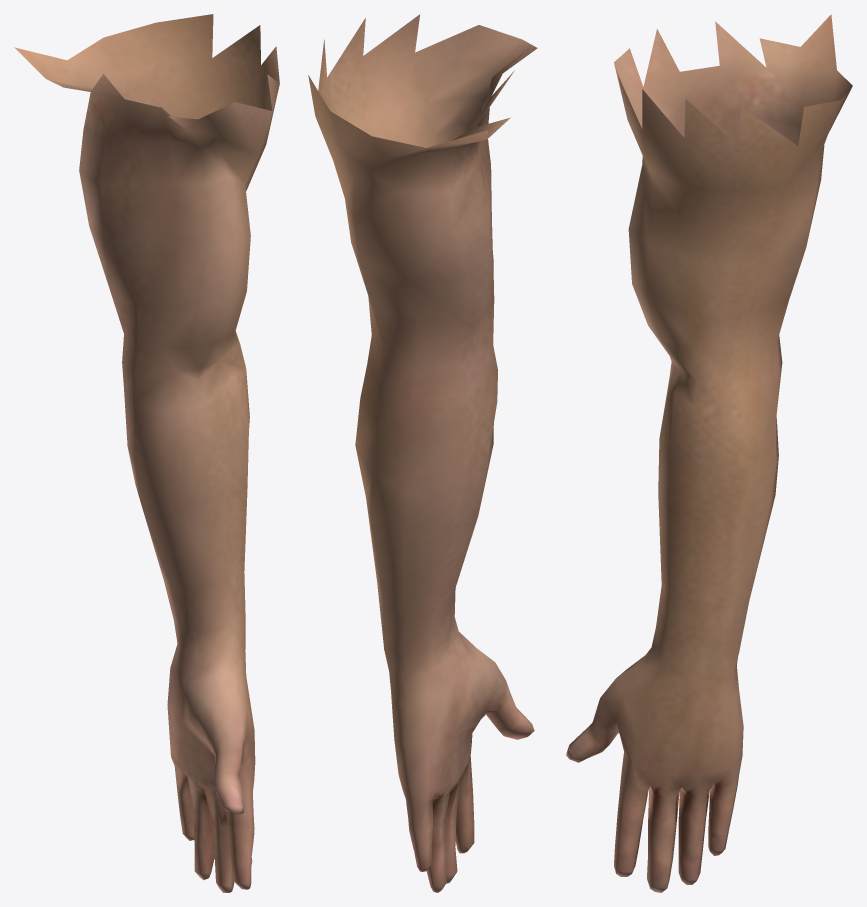
The model's file is character_arm_r_naked.glb.
3 renders of one model, left to right at view 1: azimuth 30°, elevation 25°; view 2: azimuth 150°, elevation 25°; view 3: azimuth 270°, elevation 25°, orthographic. The views are drawn at different scales.
Parts seen in each view (by area): view 1: tripo_node_bc81f8f9-a104-44a7-afac-f094b41faff7; view 2: tripo_node_bc81f8f9-a104-44a7-afac-f094b41faff7; view 3: tripo_node_bc81f8f9-a104-44a7-afac-f094b41faff7.
Part boxes in pixels (left/top/right/bottom): tripo_node_bc81f8f9-a104-44a7-afac-f094b41faff7: left=14, top=14, right=279, bottom=892; tripo_node_bc81f8f9-a104-44a7-afac-f094b41faff7: left=308, top=14, right=537, bottom=892; tripo_node_bc81f8f9-a104-44a7-afac-f094b41faff7: left=566, top=14, right=852, bottom=892.
Size of the model in its own units: 0.1752 by 0.6827 by 0.2153.
1 material, 1 textured.
